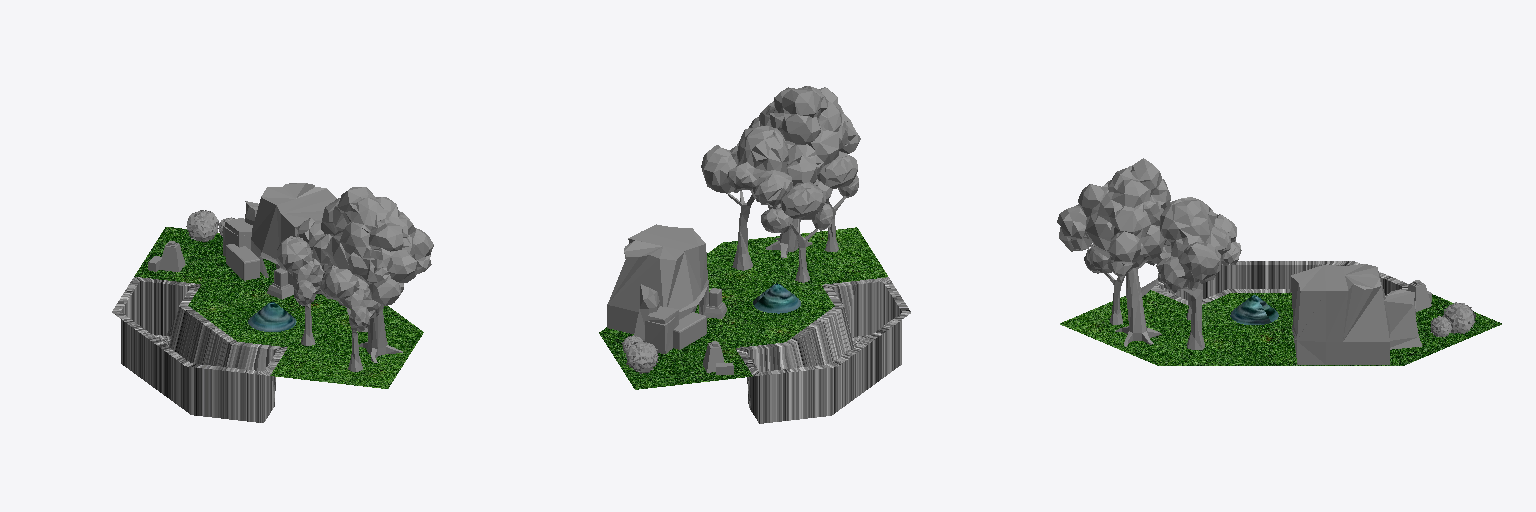
3 views of the same model, side by side, from view 1: azimuth 30°, elevation 25°; view 2: azimuth 150°, elevation 25°; view 3: azimuth 270°, elevation 25° (orthographic).
Visible parts, largest first — view 1: terreno_flamingo, _6_tree, Box002, _3_tree, smalltree3, Cone001, smalltree2, BushSmallRed, Pyramid002; view 2: terreno_flamingo, Box002, _6_tree, smalltree2, smalltree3, _3_tree, Cone001, BushSmallRed, Pyramid002; view 3: terreno_flamingo, Box002, _6_tree, smalltree2, Cone001, _3_tree, BushSmallRed.
Boxes of the visible parts, x1=… form: terreno_flamingo: x1=112, y1=227, x2=423, y2=422; _6_tree: x1=312, y1=187, x2=433, y2=362; Box002: x1=223, y1=183, x2=336, y2=299; _3_tree: x1=320, y1=265, x2=384, y2=371; smalltree3: x1=276, y1=236, x2=323, y2=345; Cone001: x1=248, y1=302, x2=296, y2=331; smalltree2: x1=297, y1=198, x2=367, y2=331; BushSmallRed: x1=186, y1=210, x2=218, y2=241; Pyramid002: x1=148, y1=241, x2=185, y2=271; terreno_flamingo: x1=599, y1=227, x2=910, y2=423; Box002: x1=607, y1=224, x2=726, y2=353; _6_tree: x1=749, y1=86, x2=860, y2=257; smalltree2: x1=701, y1=126, x2=792, y2=270; smalltree3: x1=761, y1=182, x2=834, y2=282; _3_tree: x1=817, y1=151, x2=858, y2=251; Cone001: x1=753, y1=283, x2=800, y2=313; BushSmallRed: x1=625, y1=341, x2=658, y2=373; Pyramid002: x1=703, y1=341, x2=733, y2=374; terreno_flamingo: x1=1060, y1=261, x2=1501, y2=365; Box002: x1=1291, y1=264, x2=1421, y2=364; _6_tree: x1=1057, y1=158, x2=1171, y2=346; smalltree2: x1=1159, y1=197, x2=1236, y2=349; Cone001: x1=1230, y1=295, x2=1278, y2=324; _3_tree: x1=1084, y1=248, x2=1154, y2=324; BushSmallRed: x1=1443, y1=302, x2=1475, y2=333.
Bounding box in the file's own units: 70.71 × 69.14 × 128.
8 materials, 3 textured.